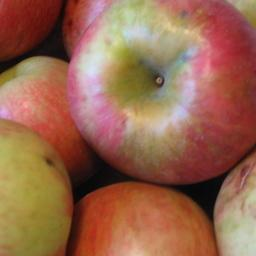apple: (67, 1, 256, 191), (1, 54, 99, 180), (71, 183, 221, 256), (1, 121, 74, 256)
